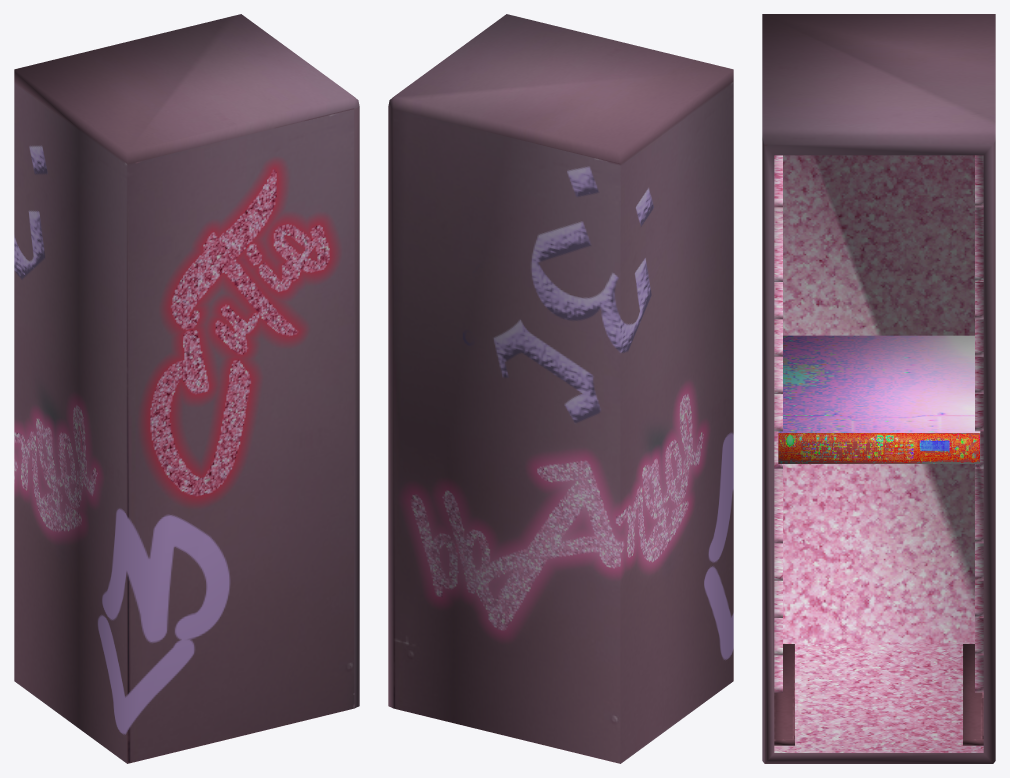
The model's file is server.gltf.
3 renders of one model, left to right at view 1: azimuth 30°, elevation 25°; view 2: azimuth 150°, elevation 25°; view 3: azimuth 270°, elevation 25°, orthographic. The views are drawn at different scales.
Visible parts, largest first — view 1: ServerV2_console:rack_Cube1_auv; view 2: ServerV2_console:rack_Cube1_auv; view 3: ServerV2_console:rack_Cube1_auv, ServerV2_console:u_server5_Cube12_auv.
Boxes of the visible parts, x1=… form: ServerV2_console:rack_Cube1_auv: x1=14, y1=14, x2=359, y2=763; ServerV2_console:rack_Cube1_auv: x1=388, y1=14, x2=733, y2=763; ServerV2_console:rack_Cube1_auv: x1=762, y1=14, x2=995, y2=763; ServerV2_console:u_server5_Cube12_auv: x1=778, y1=335, x2=980, y2=463.
Bounding box in the file's own units: 2.06 × 5.15 × 1.72.
Materials: 2 (2 with a texture image).
